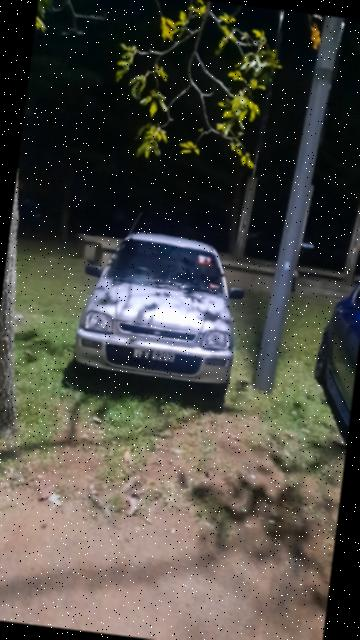License_Plate: (129, 346, 179, 368)
car: (68, 209, 253, 401)
